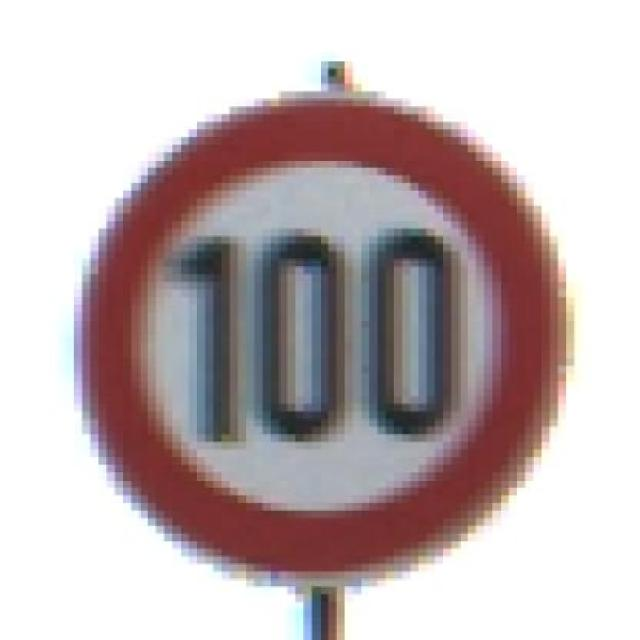forb_speed_over_100: (80, 97, 566, 583)
